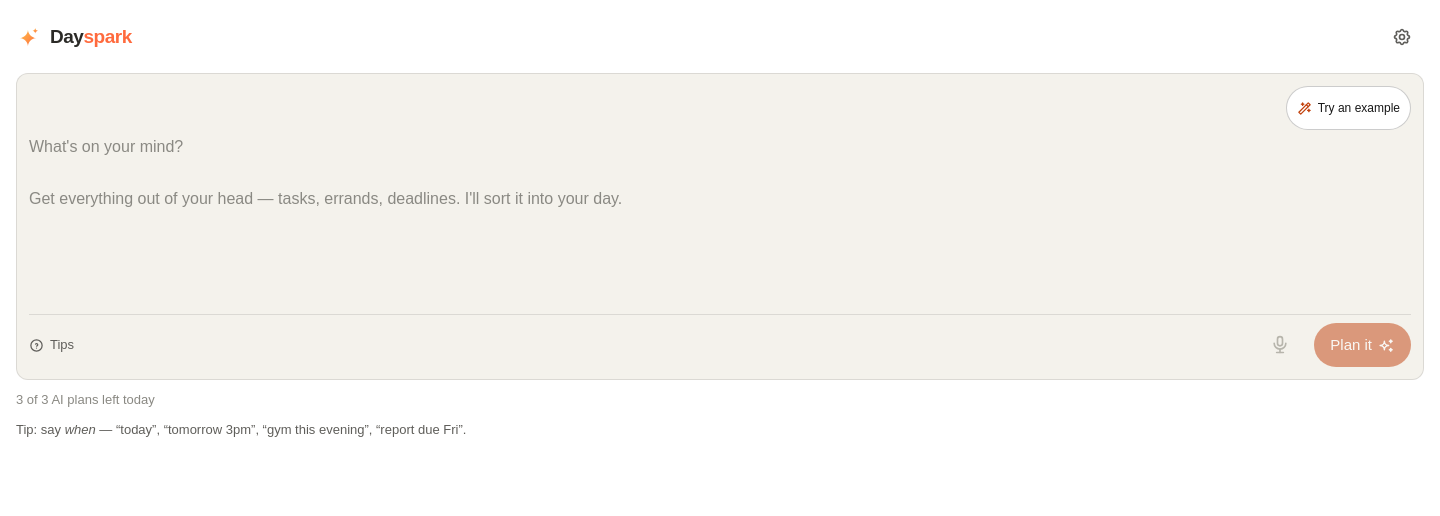
Test: CaptureFlow › parses a dump and transitions to Review
Type "Gym this evening. Read design book." into the text box with placeholder "What's on your mind" at [720, 222], box [29, 134, 1411, 310]
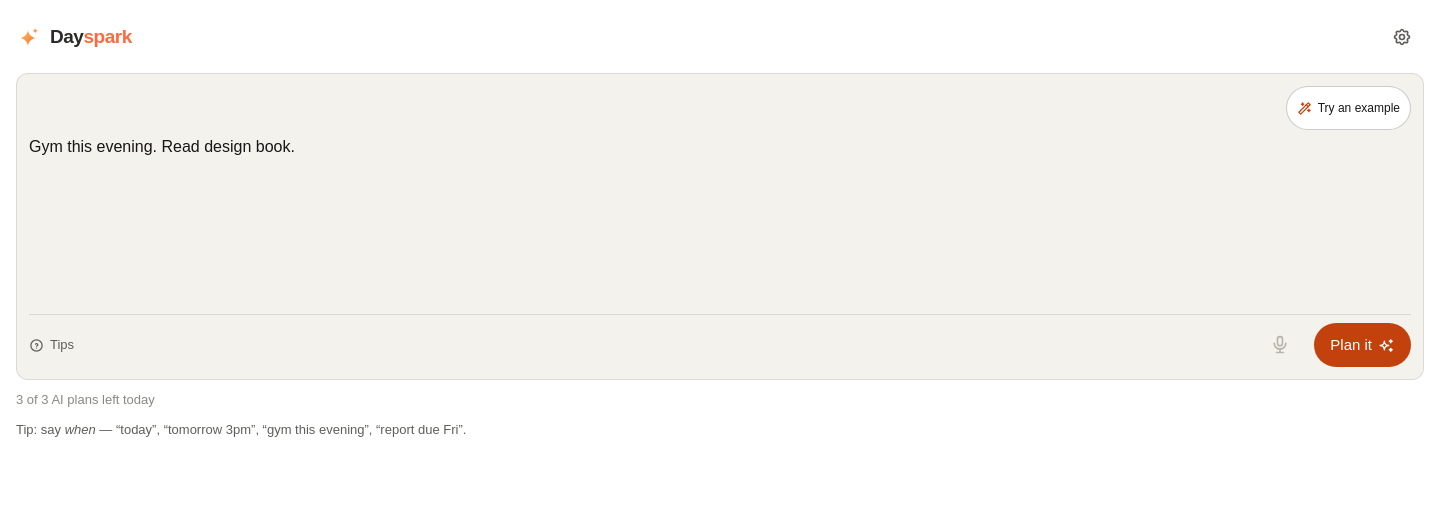
Click the button "Plan it" at [1363, 345], box [1314, 323, 1411, 367]
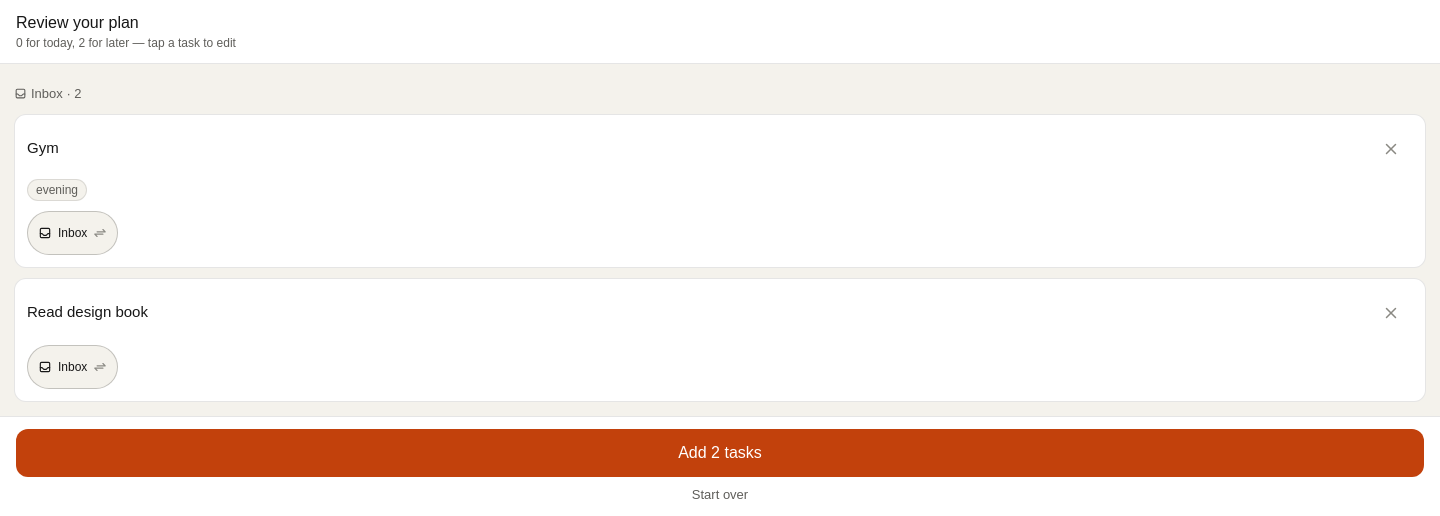
Check: the button "Add 2 tasks" is shown, box [16, 428, 1424, 476]
